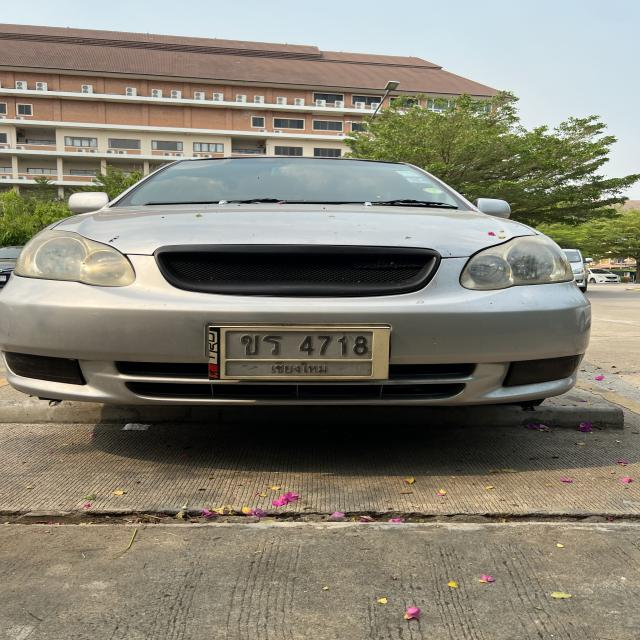license_plate: (208, 325, 390, 380)
